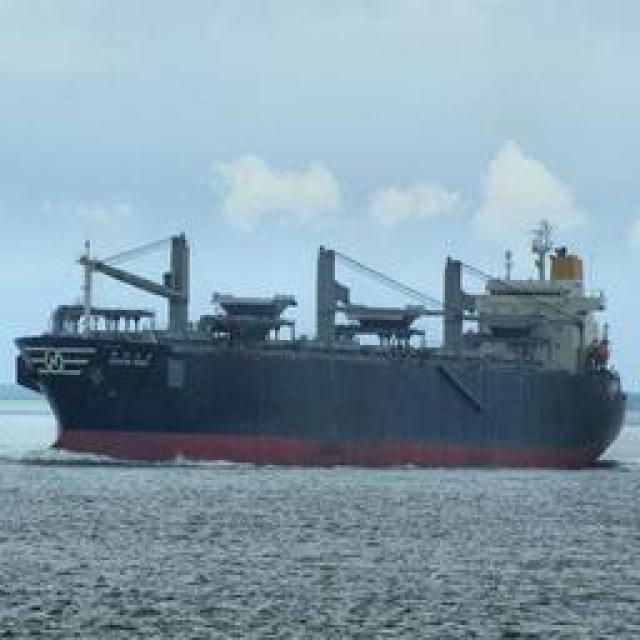Ship: (14, 225, 630, 476)
